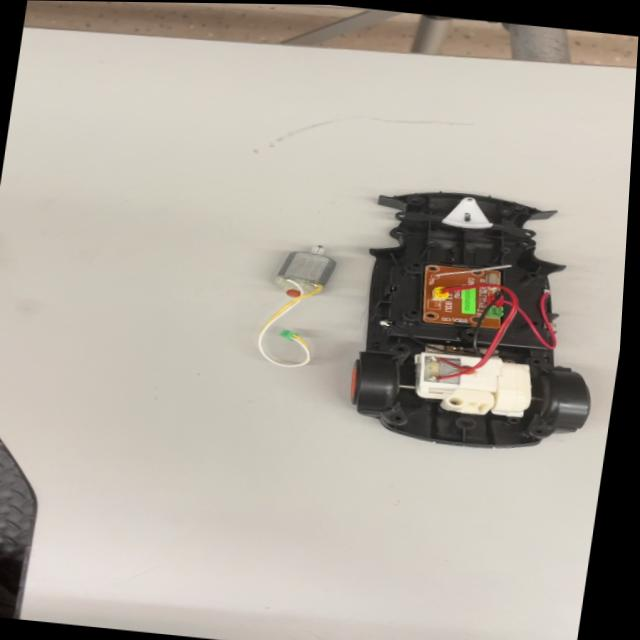Chassis: (334, 181, 619, 461)
motor: (260, 236, 348, 310)
